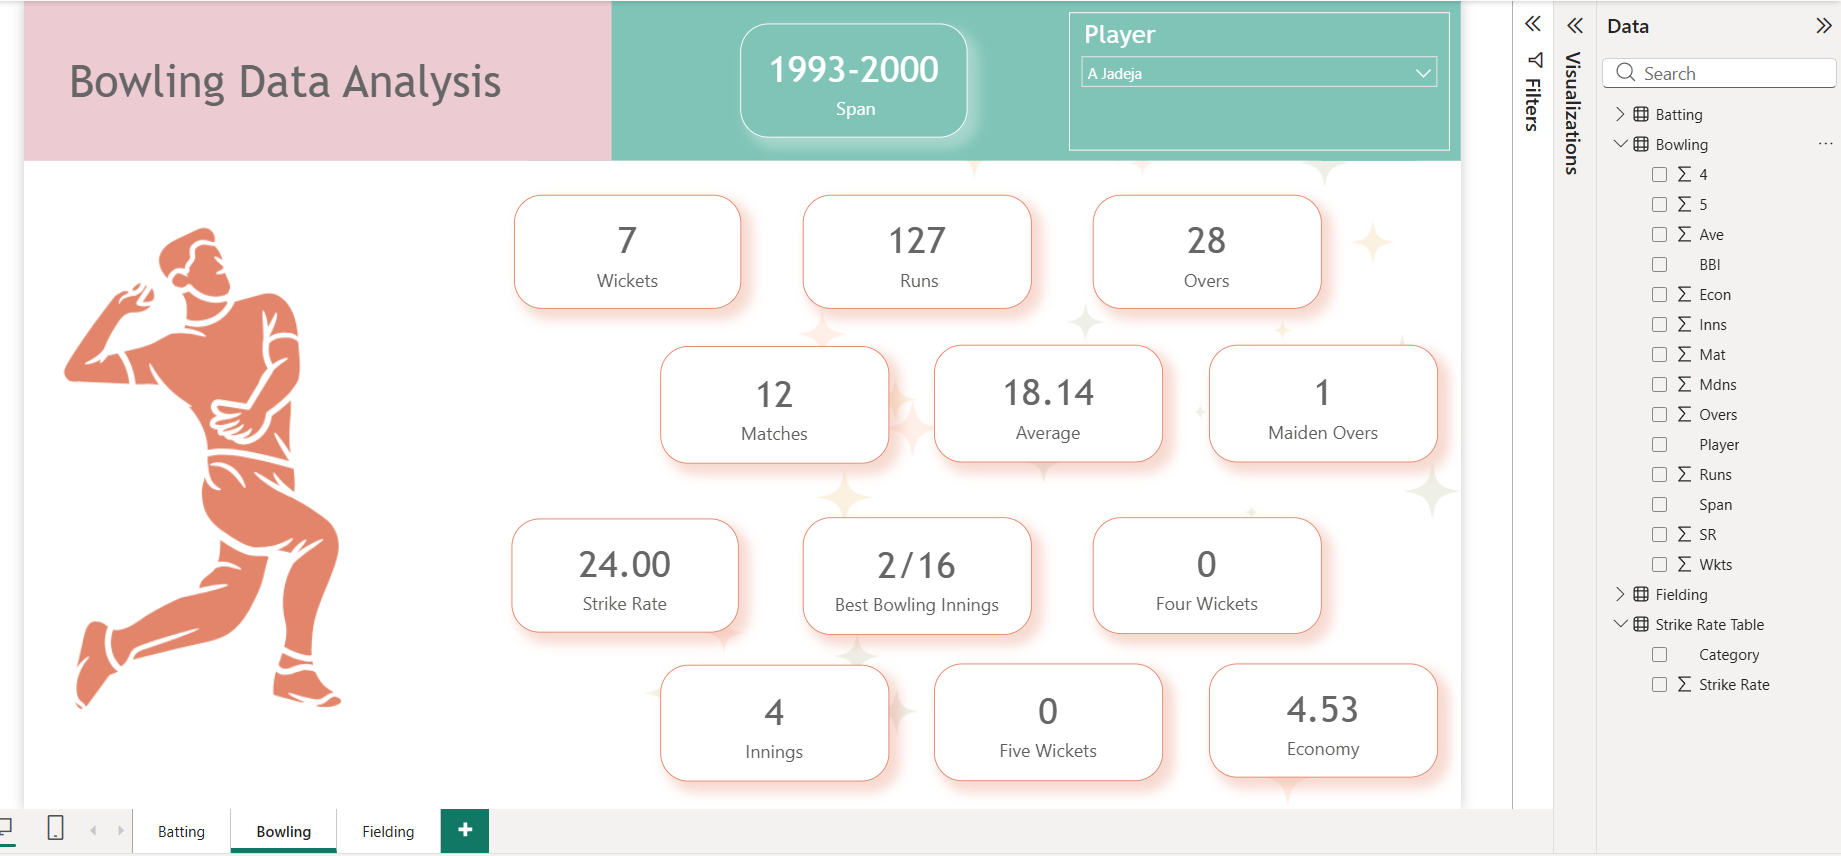

This screenshot's page, from the dashboard's own definition file:
{"tool":"powerbi","page":{"name":"Bowling","canvas":[1280,720],"ordinal":1},"visuals":[{"type":"shape","box":[450,0,830,142.4],"z":0},{"type":"shape","box":[0,0,523.6,142.4],"z":1000},{"type":"shape","box":[1155.9,0,124.1,142.3],"z":2000},{"type":"slicer","fields":{"Values":["Batting.Player"]},"box":[930.2,9.7,339,123.1],"z":3000},{"type":"card","fields":{"Values":["Min(Bowling.Span)"]},"box":[638.2,20.5,202.7,101.3],"z":4000},{"type":"card","fields":{"Values":["Sum(Bowling.Wkts)"]},"box":[436.7,172.5,202.7,101.3],"z":5000},{"type":"card","fields":{"Values":["Sum(Bowling.SR)"]},"box":[434.3,460.9,202.7,101.3],"z":6000},{"type":"card","fields":{"Values":["Sum(Bowling.Runs)"]},"box":[693.7,172.5,203.9,101.3],"z":7000},{"type":"card","fields":{"Values":["Sum(Bowling.Overs)"]},"box":[951.9,172.5,203.9,101.3],"z":8000},{"type":"card","fields":{"Values":["Sum(Bowling.Mdns)"]},"box":[1055.6,306.4,203.9,105],"z":9000},{"type":"card","fields":{"Values":["Sum(Bowling.Mat)"]},"box":[567,307.6,203.9,105],"z":10000},{"type":"card","fields":{"Values":["Sum(Bowling.Inns)"]},"box":[567,591.2,203.9,103.8],"z":11000},{"type":"card","fields":{"Values":["Sum(Bowling.Econ)"]},"box":[1055.6,589.9,203.9,101.3],"z":12000},{"type":"card","fields":{"Values":["Min(Bowling.BBI)"]},"box":[693.7,459.7,203.9,105],"z":13000},{"type":"card","fields":{"Values":["Sum(Bowling.Ave)"]},"box":[810.7,306.4,203.9,105],"z":14000},{"type":"card","fields":{"Values":["Sum(Bowling.5)"]},"box":[810.7,589.9,203.9,105],"z":15000},{"type":"card","fields":{"Values":["Sum(Bowling.4)"]},"box":[951.9,459.7,203.9,103.8],"z":16000}]}

Visuals, with their boxes on the page's 1280x720 design canvas (x1, y1, x2, y2). These are canvas units, not pixel positions in the 1841x856 screenshot, which may show the page scaled, cropped or inside an application window:
shape: rect(450, 0, 1280, 142)
shape: rect(0, 0, 524, 142)
shape: rect(1156, 0, 1280, 142)
slicer - Batting.Player: rect(930, 10, 1269, 133)
card - Min(Bowling.Span): rect(638, 20, 841, 122)
card - Sum(Bowling.Wkts): rect(437, 172, 639, 274)
card - Sum(Bowling.SR): rect(434, 461, 637, 562)
card - Sum(Bowling.Runs): rect(694, 172, 898, 274)
card - Sum(Bowling.Overs): rect(952, 172, 1156, 274)
card - Sum(Bowling.Mdns): rect(1056, 306, 1260, 411)
card - Sum(Bowling.Mat): rect(567, 308, 771, 413)
card - Sum(Bowling.Inns): rect(567, 591, 771, 695)
card - Sum(Bowling.Econ): rect(1056, 590, 1260, 691)
card - Min(Bowling.BBI): rect(694, 460, 898, 565)
card - Sum(Bowling.Ave): rect(811, 306, 1015, 411)
card - Sum(Bowling.5): rect(811, 590, 1015, 695)
card - Sum(Bowling.4): rect(952, 460, 1156, 564)
